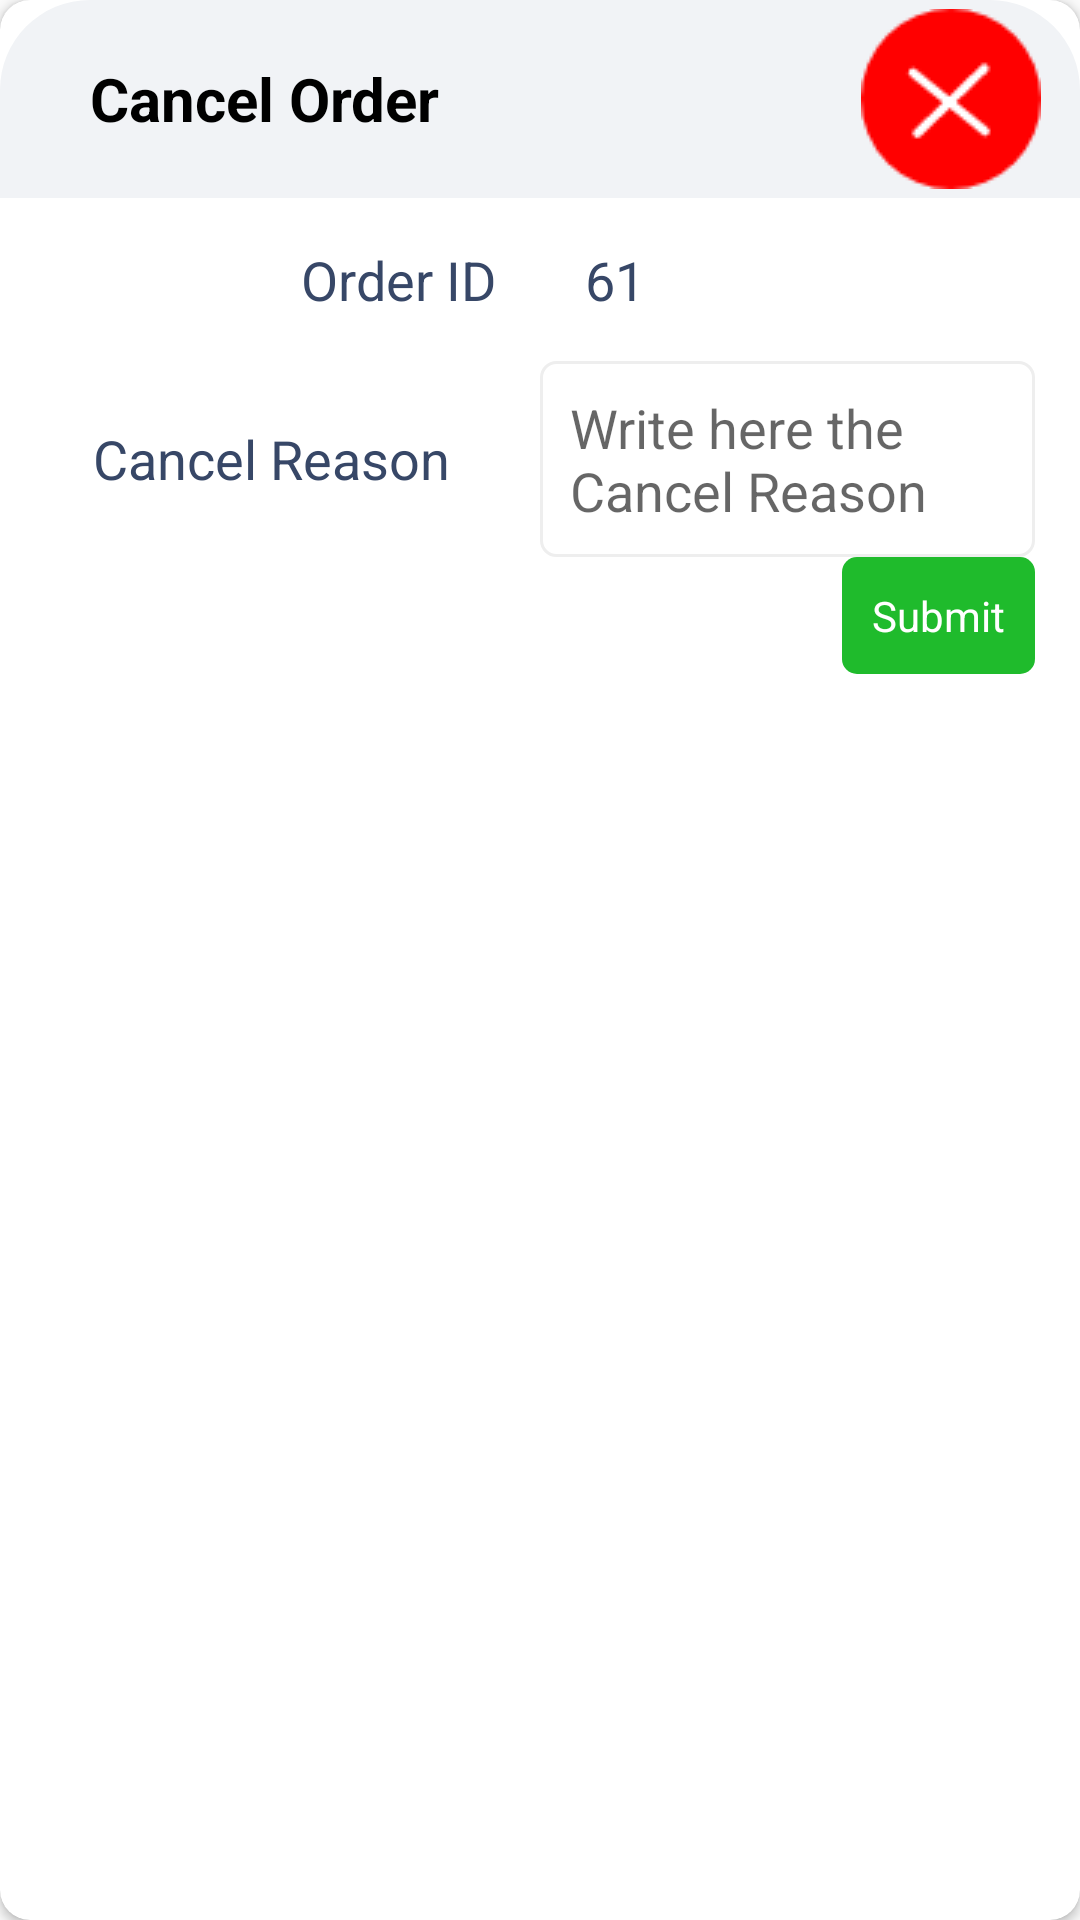

Icon click points for this 1080w x 1920h phone screenshot, format (x=x, y=y):
cross: (x=951, y=99)
